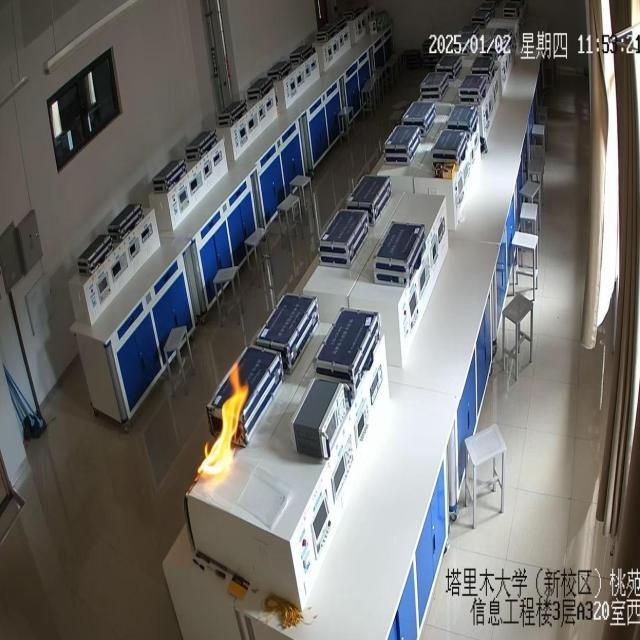smoke: (198, 362, 249, 485)
